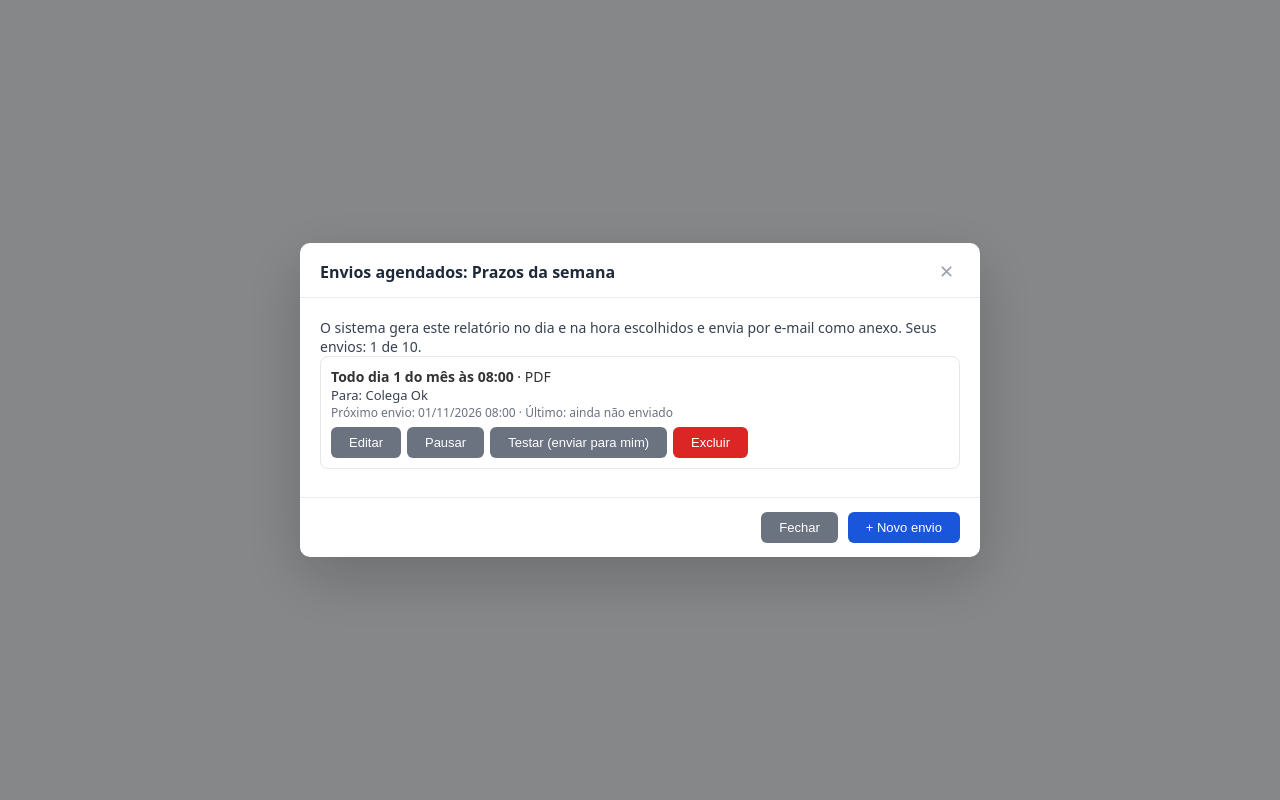
Scenario: Envios agendados › cria um envio: quem não pode receber fica desabilitado com o motivo e só os válidos vão ao servidor
Later steps or results of the test are not shown.
Expected: the text "Todo dia 1 do mês às 08:00" is shown, [331, 367, 514, 386]
Click the button "+ Novo envio" at point(904, 528), box [848, 512, 960, 543]
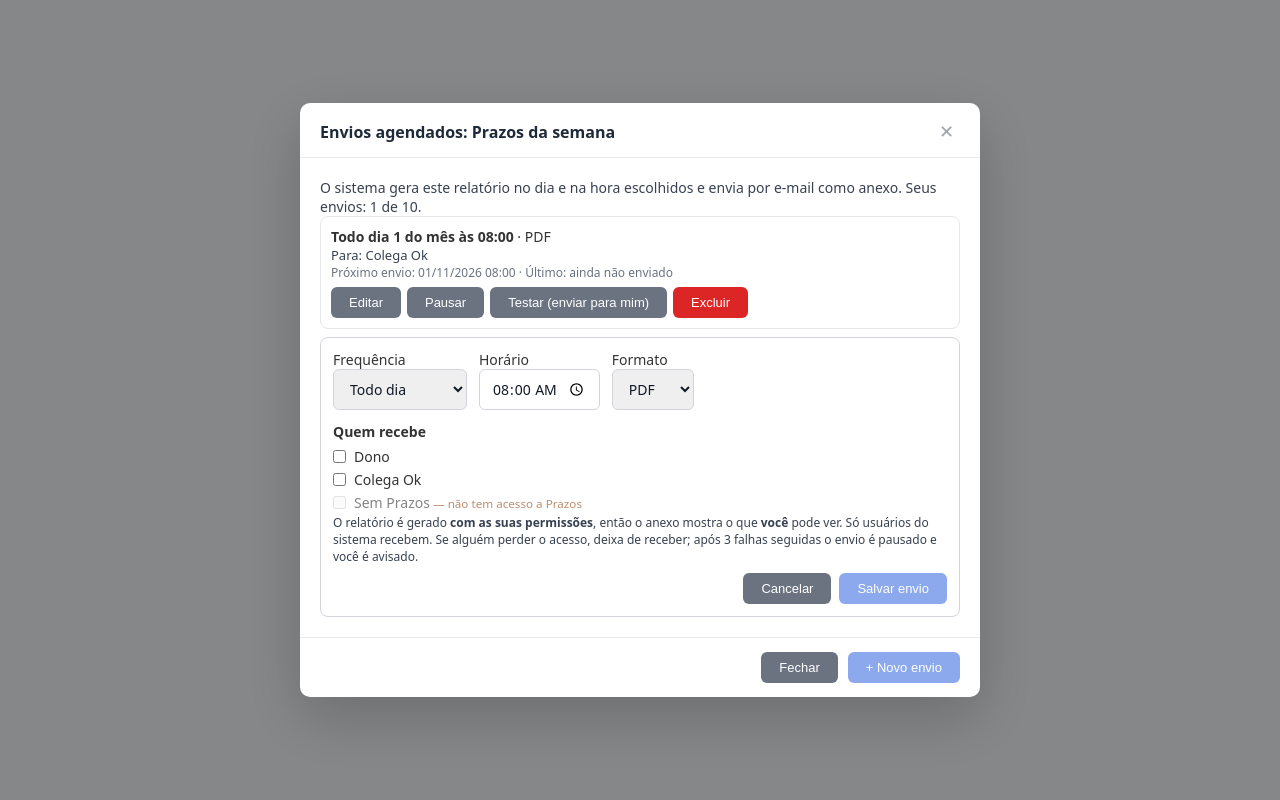
Now the checkbox labelled "Sem Prazos — não tem acesso a Prazos" is disabled, box [333, 496, 346, 509]
Now the text "— não tem acesso a Prazos" is shown, box [430, 496, 582, 511]
Now the button "Salvar envio" is disabled, box [840, 573, 947, 604]
